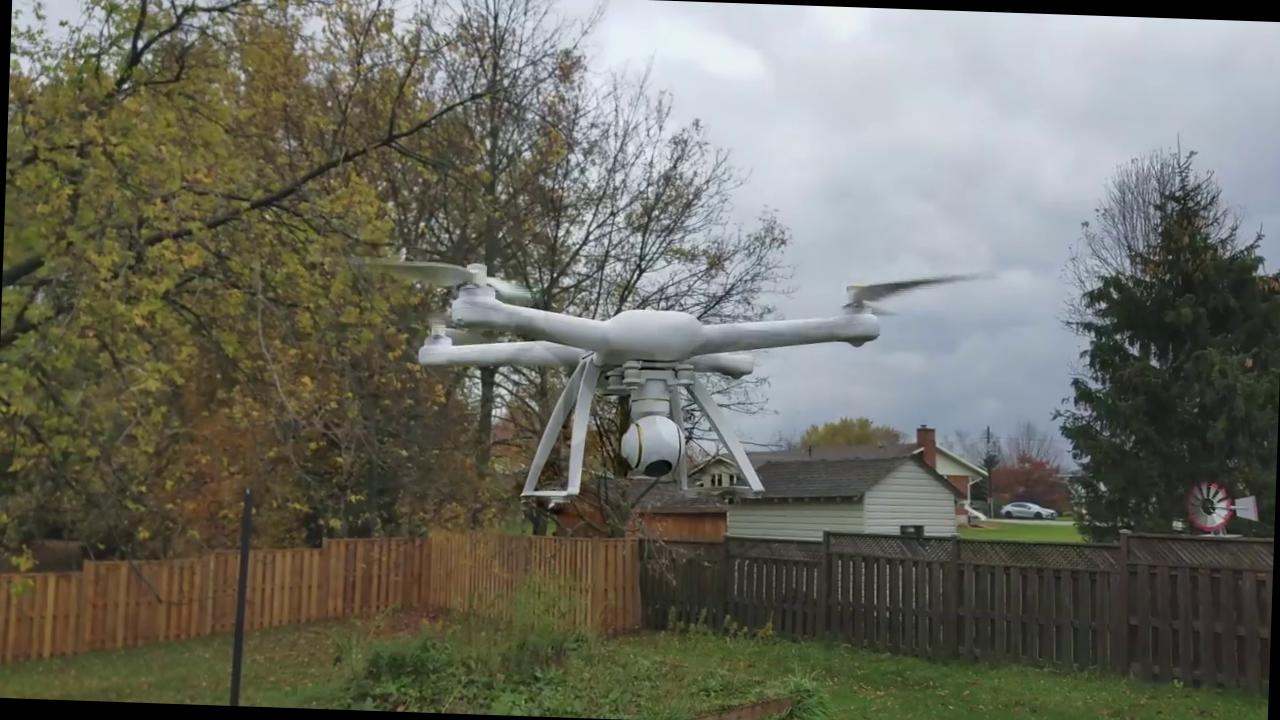drone: (371, 236, 998, 439)
